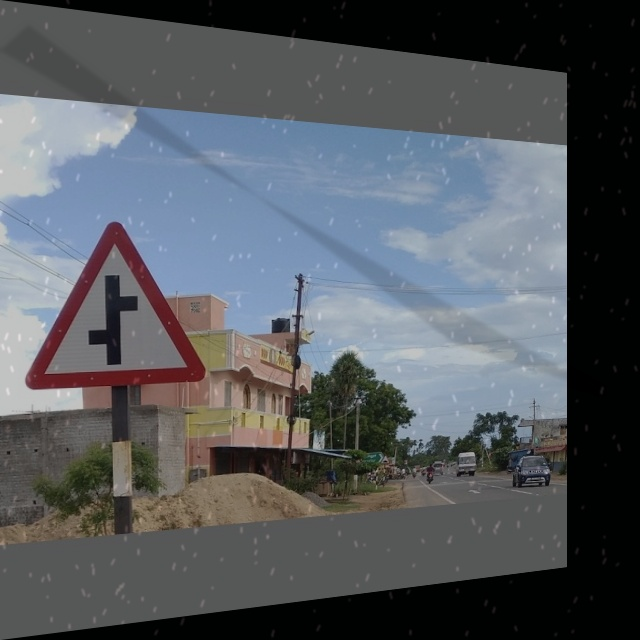Staggered_Intersection: (29, 211, 216, 392)
